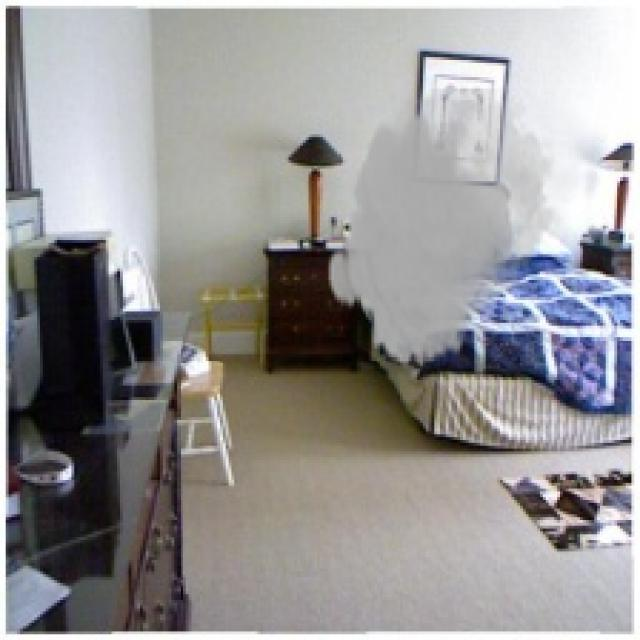Smoke: (326, 88, 563, 372)
